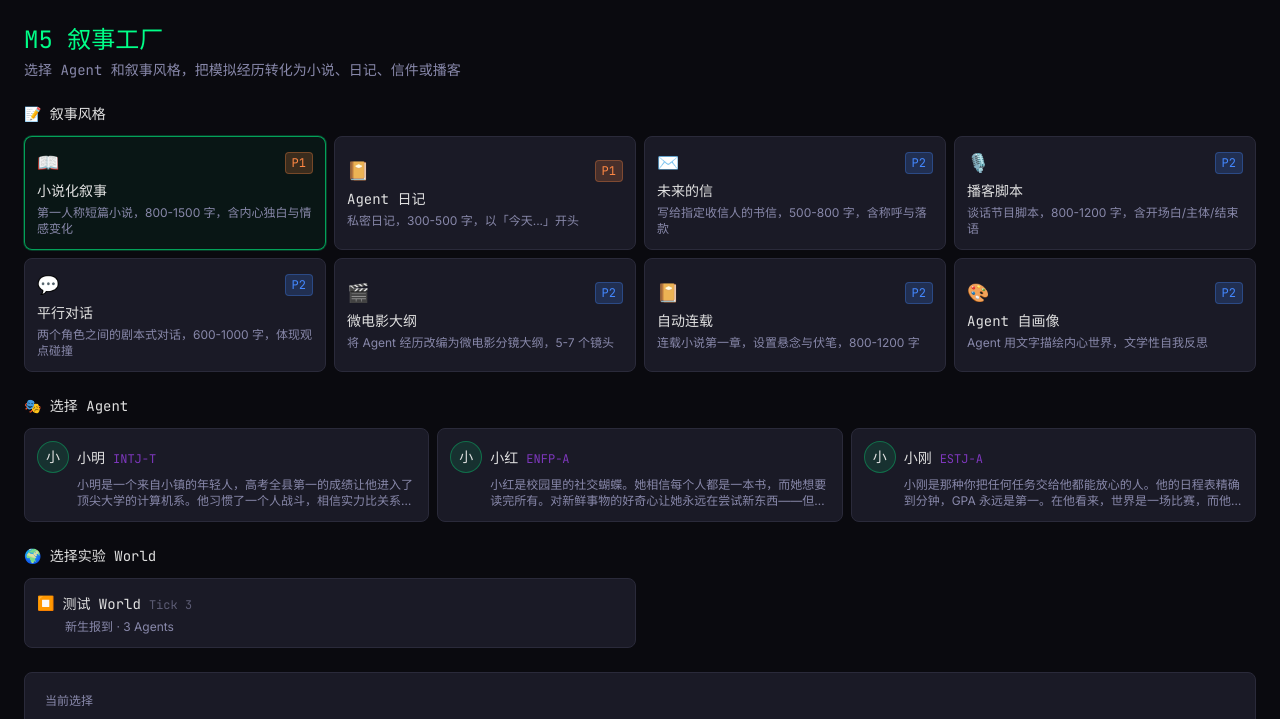
Test: Step 34a NarrativeFactory — generating & result phases › generates podcast via API
The image size is (1280, 719).
Click the button "小红".
click(640, 475)  # box [437,428,843,522]
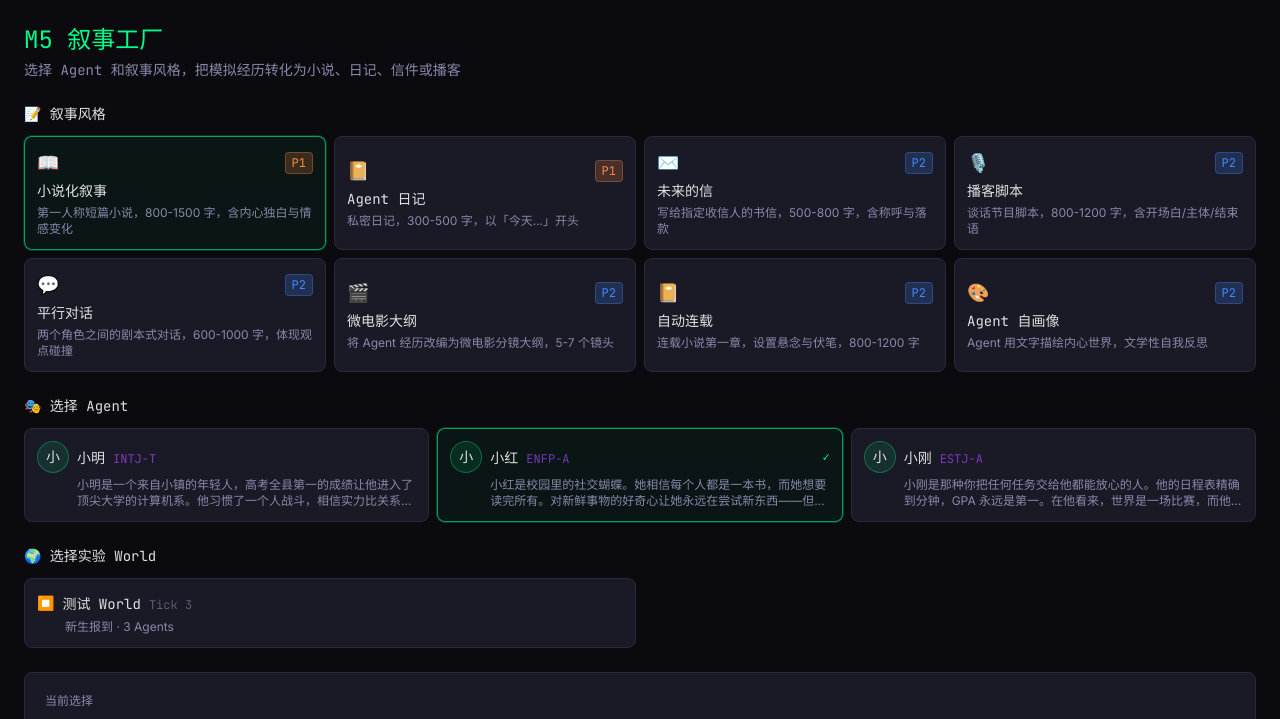
Click the button "测试 World".
click(102, 604)  # box [24,578,636,648]
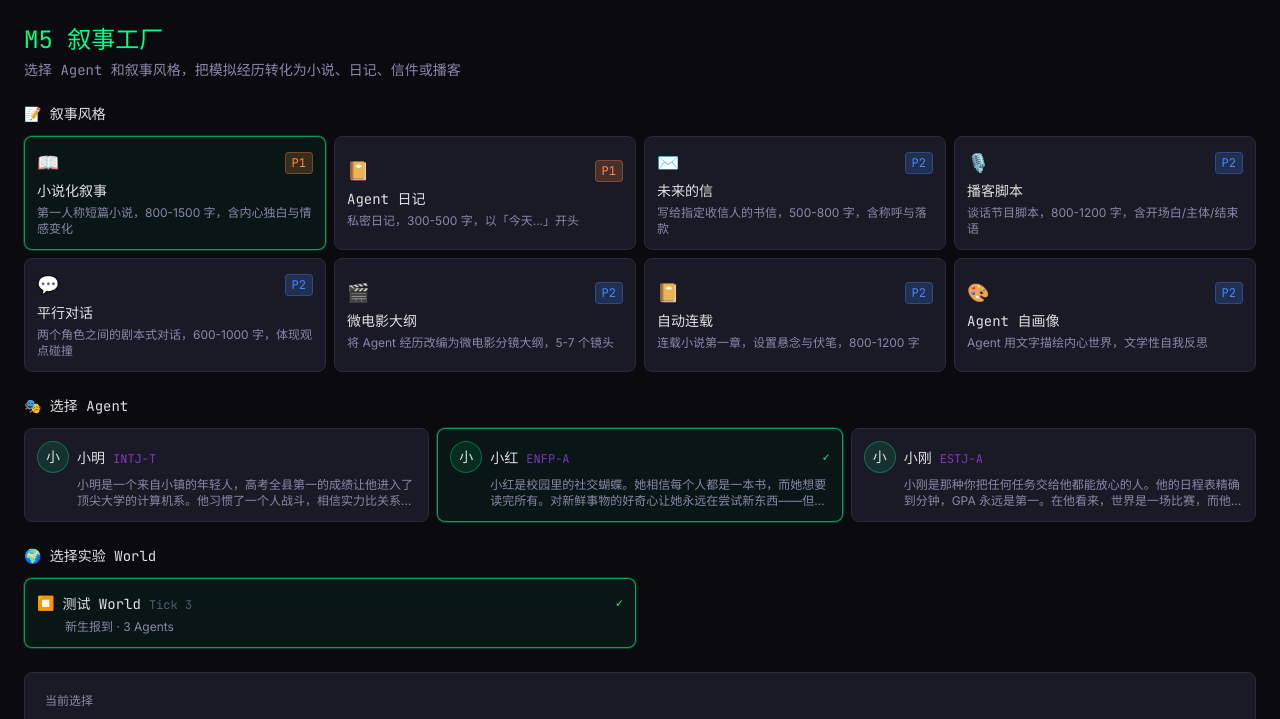
Click the button "🎙️ P2 播客脚本 谈话节目脚本，800-1200 字，含开场白/主体/结束语".
click(995, 191)  # box [954,136,1256,250]
(page scrolled)
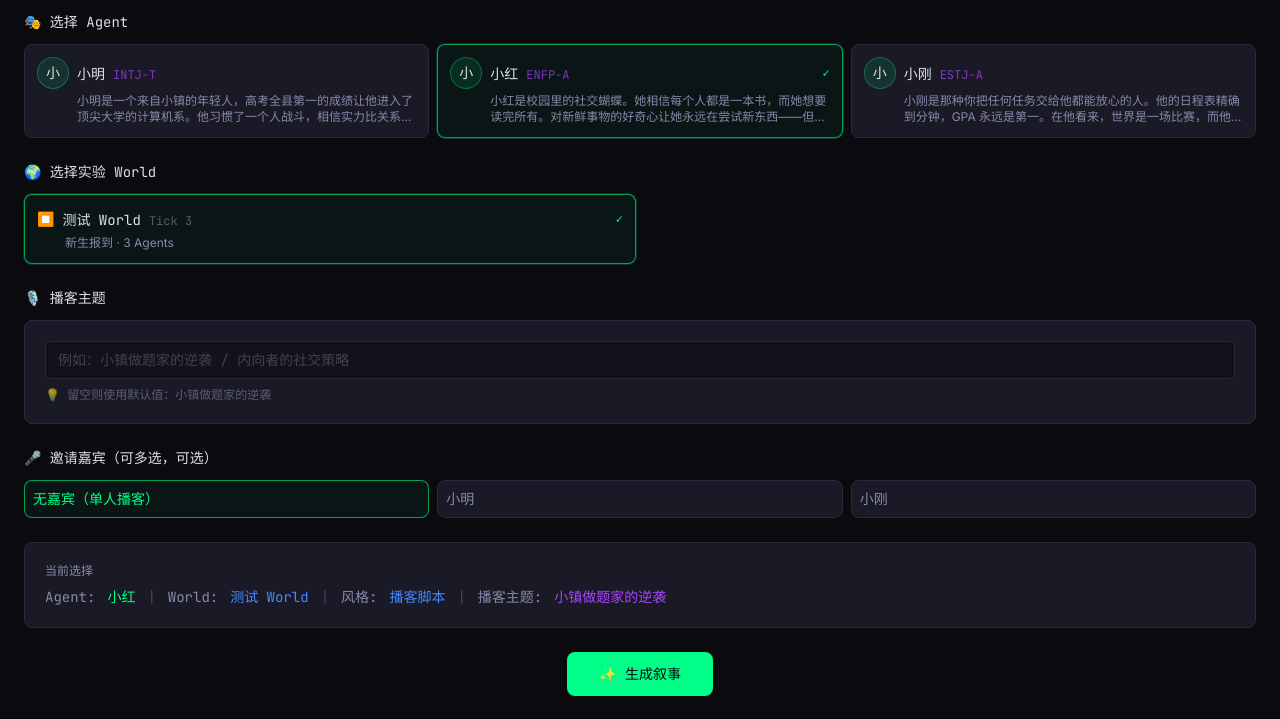
Click the button "✨ 生成叙事".
click(640, 674)  # box [567,652,713,696]
(page scrolled)
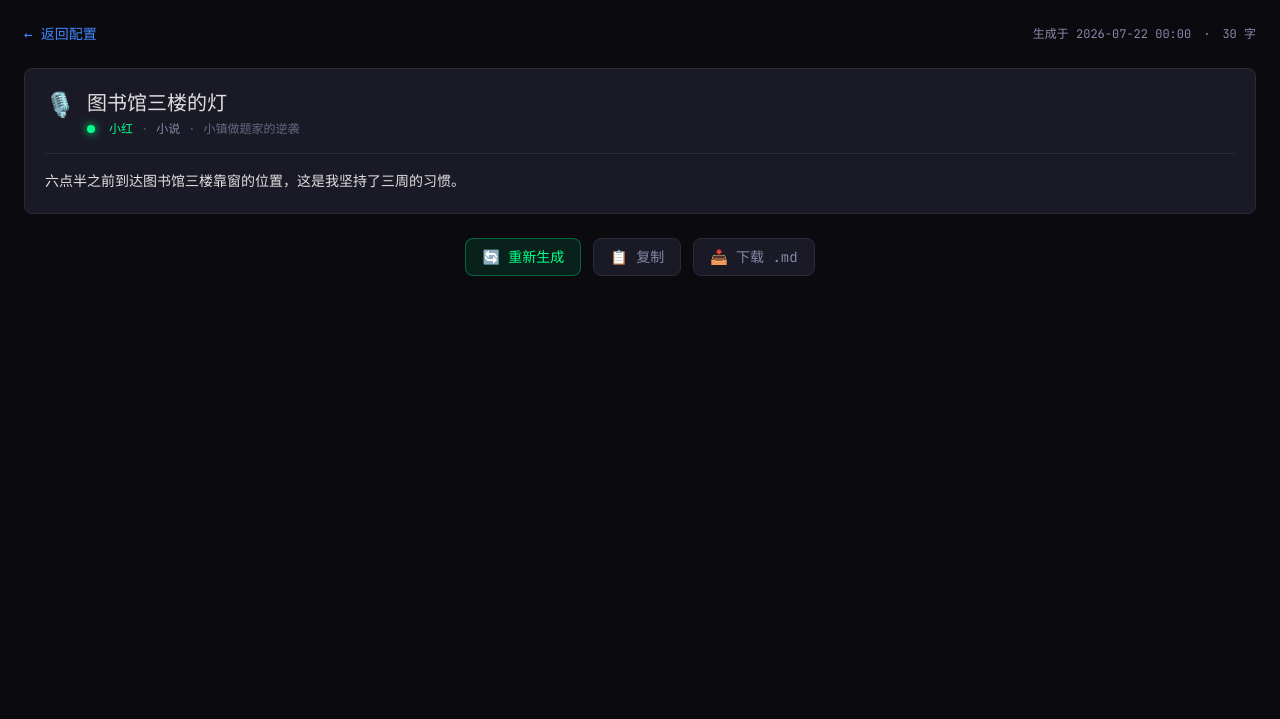
Expected: the heading "图书馆三楼的灯" is shown, [87,90,227,116]
